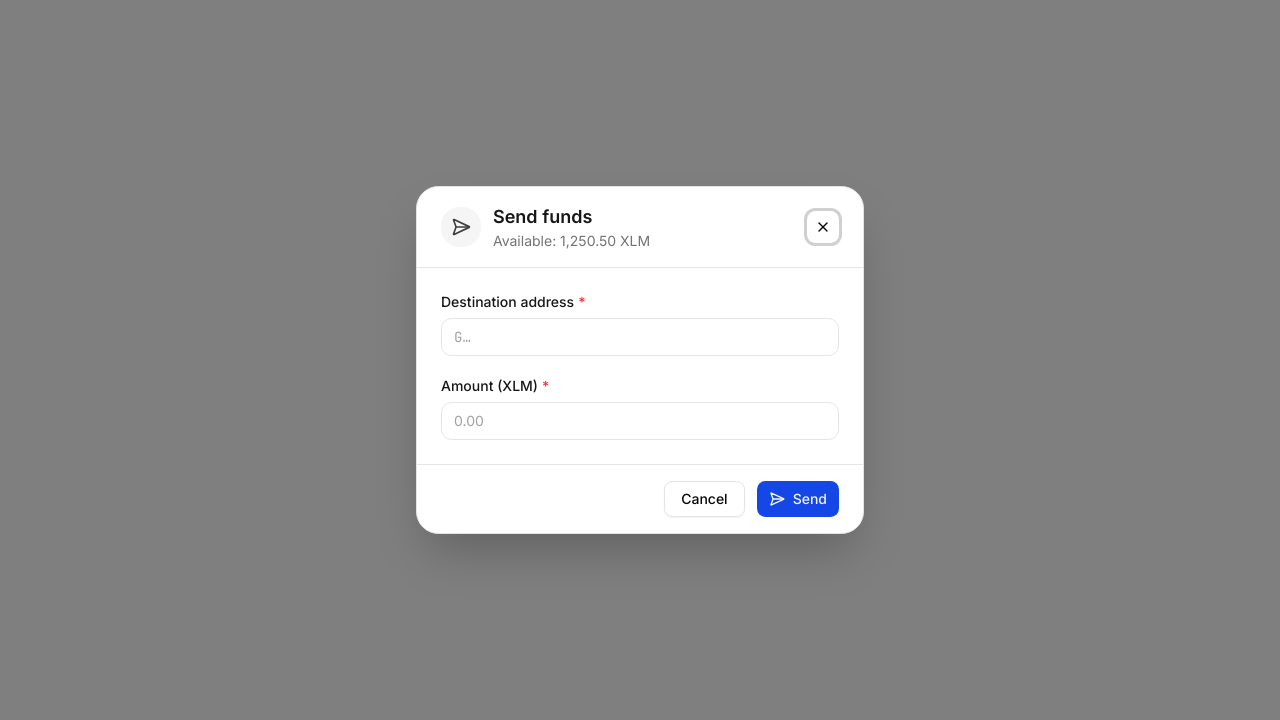
Test: SendWalletModal › destination address validation › shows invalid address error for non-Stellar address on blur
Step 1. Type "not-an-address" into the field labelled "Destination address*" → (640, 337), box [441,318,839,356]
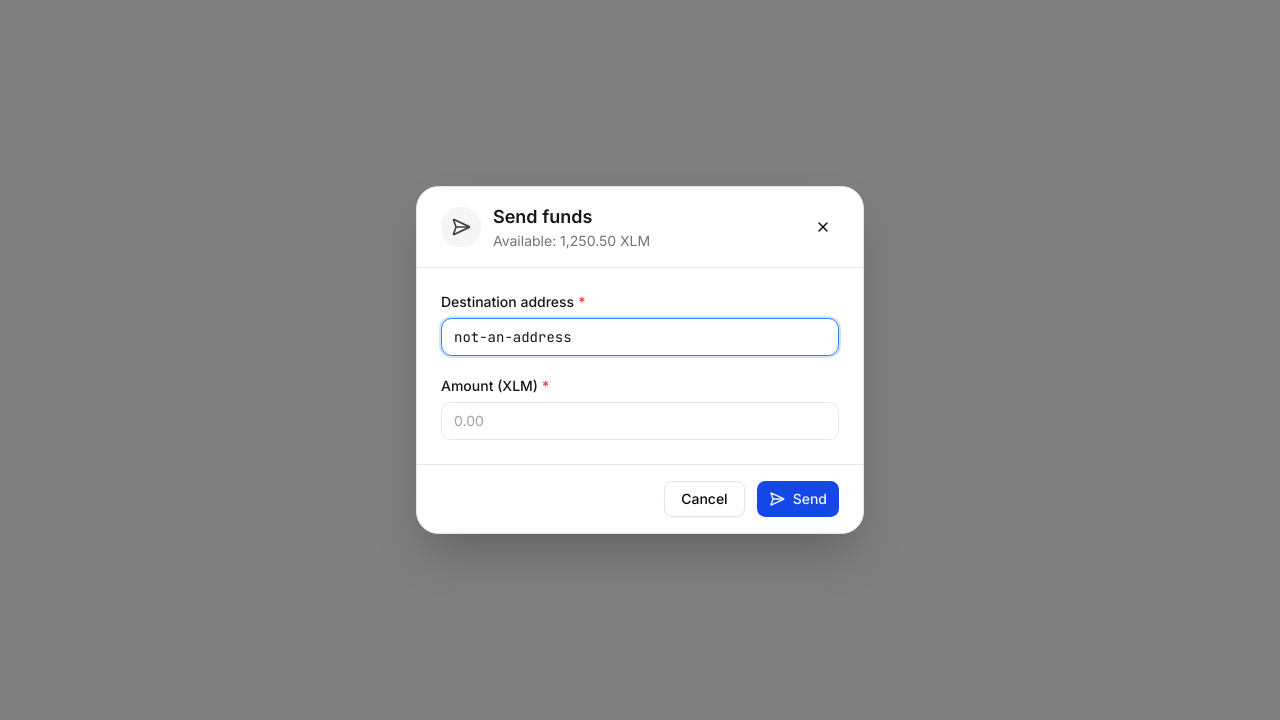
Step 2. Press Tab
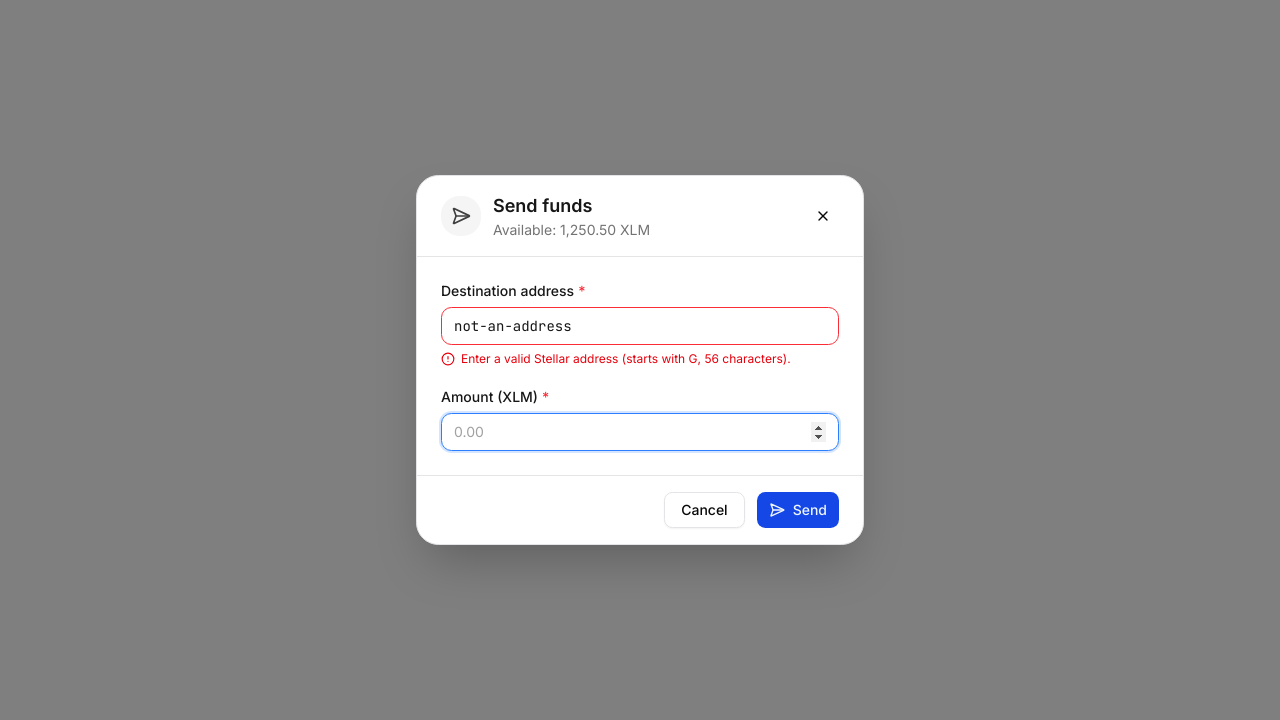
Expected: the text "Enter a valid Stellar address (starts with G, 56 characters)." is shown, [441,351,839,367]
